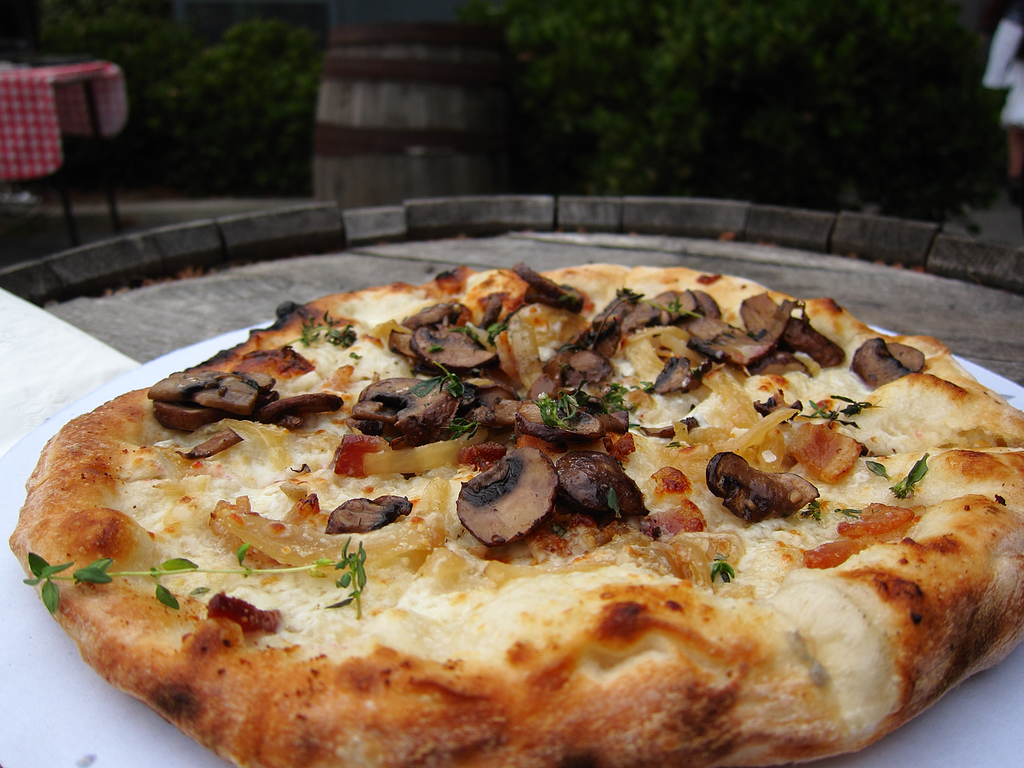Pizza: (8, 259, 1023, 767)
